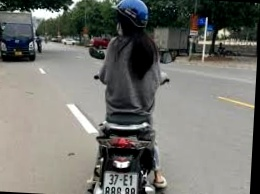Bien-so: (103, 171, 137, 194)
